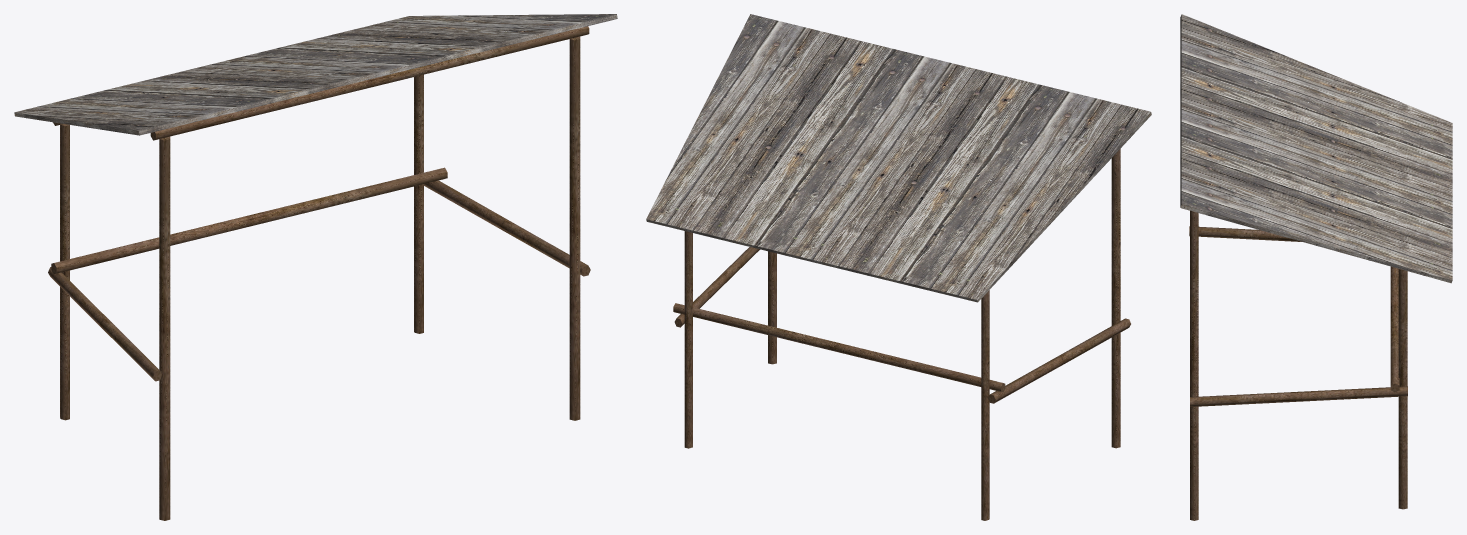
The model's file is mm_market_stand.FBX.
3 views of the same model, side by side, from view 1: azimuth 30°, elevation 25°; view 2: azimuth 150°, elevation 25°; view 3: azimuth 270°, elevation 25° (orthographic). The views are drawn at different scales.
Parts seen in each view (by area): view 1: Box001, Cylinder009, Cylinder004, Cylinder001, Cylinder005, Cylinder002, Cylinder003, Cylinder007, Cylinder008; view 2: Box001, Cylinder009, Cylinder001, Cylinder002, Cylinder003, Cylinder008, Cylinder007, Cylinder004; view 3: Box001, Cylinder004, Cylinder003, Cylinder007, Cylinder009, Cylinder008.
Part boxes in pixels (bbox=[...]): Box001: bbox=[14, 14, 617, 135]; Cylinder009: bbox=[51, 167, 447, 274]; Cylinder004: bbox=[569, 36, 580, 420]; Cylinder001: bbox=[159, 136, 170, 520]; Cylinder005: bbox=[150, 26, 589, 140]; Cylinder002: bbox=[60, 124, 69, 420]; Cylinder003: bbox=[414, 74, 423, 333]; Cylinder007: bbox=[424, 180, 590, 276]; Cylinder008: bbox=[48, 267, 162, 381]; Box001: bbox=[646, 14, 1151, 302]; Cylinder009: bbox=[673, 303, 1005, 392]; Cylinder001: bbox=[1111, 149, 1120, 448]; Cylinder002: bbox=[981, 290, 989, 520]; Cylinder003: bbox=[684, 231, 692, 448]; Cylinder008: bbox=[988, 318, 1130, 403]; Cylinder007: bbox=[674, 247, 759, 327]; Cylinder004: bbox=[768, 251, 776, 364]; Box001: bbox=[1180, 14, 1452, 283]; Cylinder004: bbox=[1190, 211, 1198, 520]; Cylinder003: bbox=[1398, 269, 1407, 509]; Cylinder007: bbox=[1190, 386, 1407, 406]; Cylinder009: bbox=[1390, 266, 1399, 392]; Cylinder008: bbox=[1189, 226, 1301, 241].
Bounding box in the file's own units: 263 × 211 × 159.
2 materials, 2 textured.
